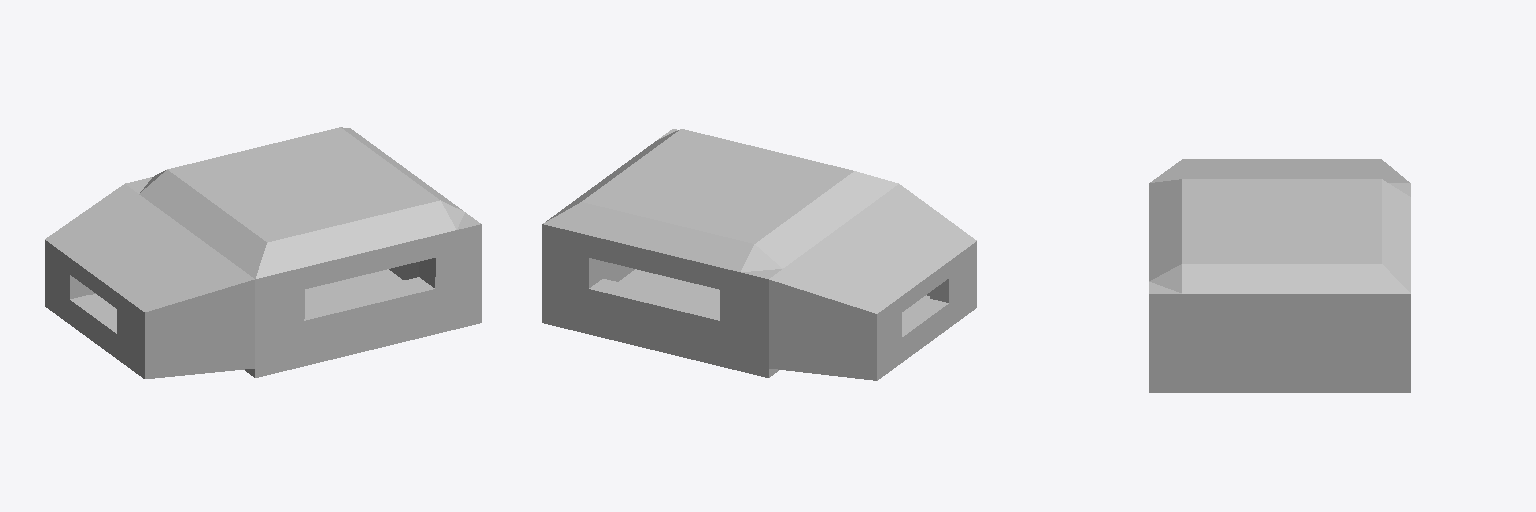
The model's file is testmesh.obj.
The picture shows the model from 3 angles: view 1: azimuth 30°, elevation 25°; view 2: azimuth 150°, elevation 25°; view 3: azimuth 270°, elevation 25°; orthographic projection.
Parts seen in each view (by area): view 1: Cube; view 2: Cube; view 3: Cube.
Boxes of the visible parts, x1,y1,x2,y2 form: Cube: [45, 127, 481, 378]; Cube: [542, 129, 976, 380]; Cube: [1149, 159, 1410, 392].
Bounding box in the file's own units: 17 × 5.92 × 12.